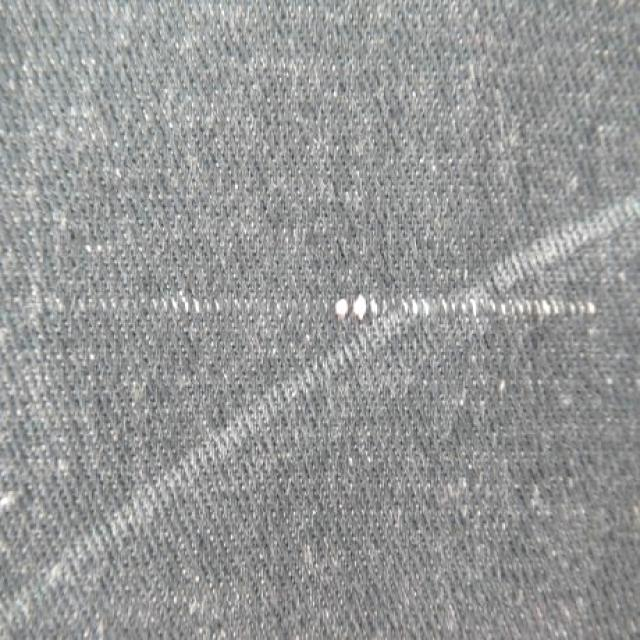stains: (16, 229, 630, 355)
